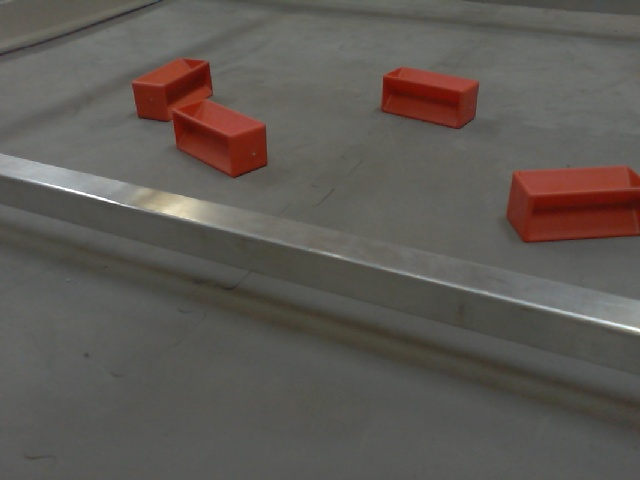RedSample: (505, 160, 640, 244), (171, 98, 270, 178), (379, 64, 481, 140), (130, 56, 215, 125)
